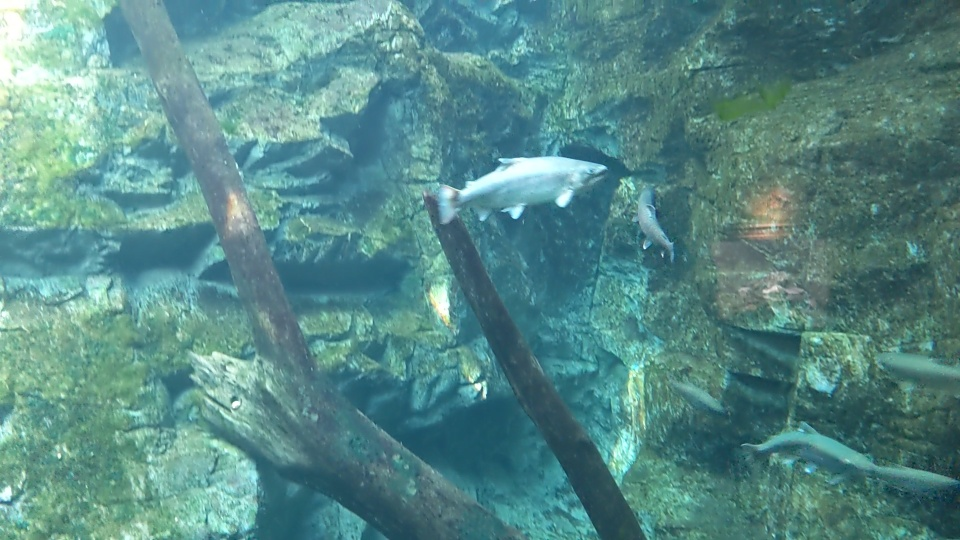Fish: (440, 152, 604, 224), (747, 421, 866, 478), (869, 345, 960, 393), (635, 188, 684, 265), (866, 455, 960, 491), (675, 370, 721, 416)
